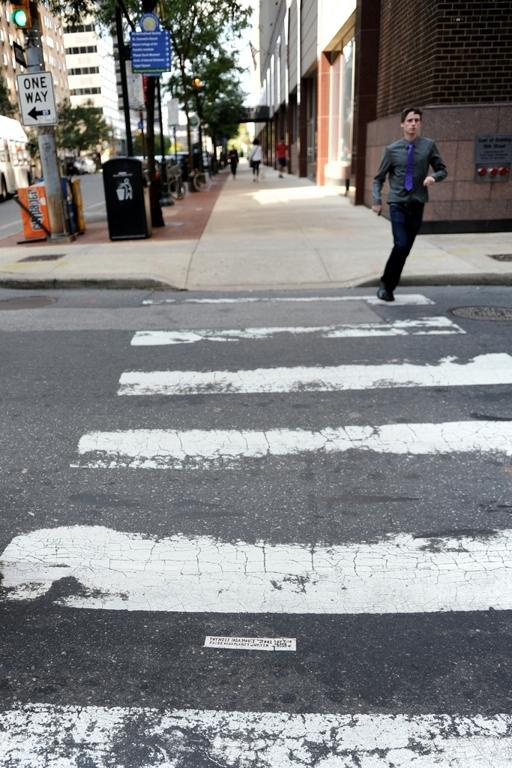non-vehicle: (190, 150, 212, 192), (167, 161, 186, 200)
